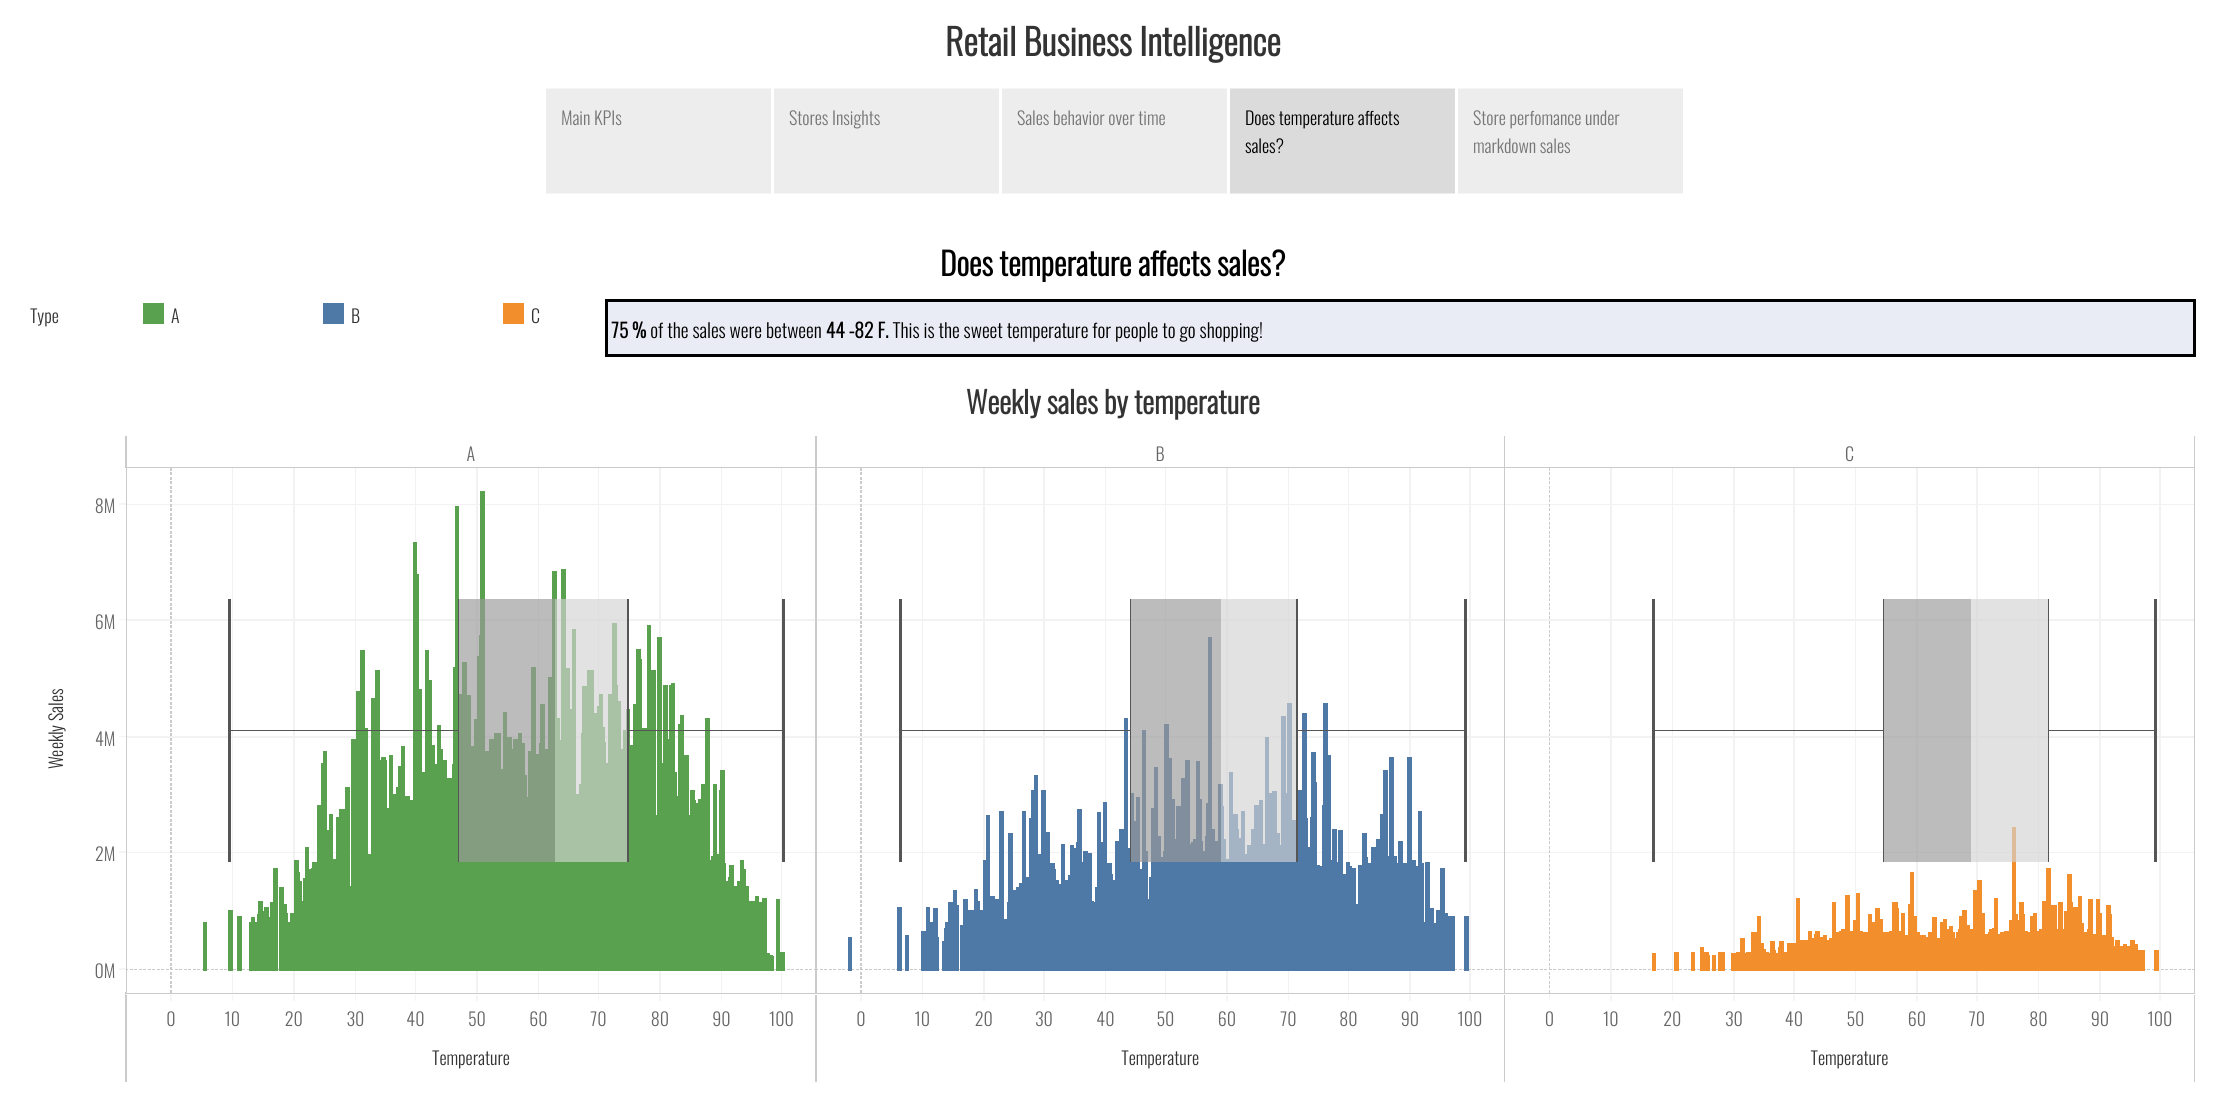

This screenshot's page, from the dashboard's own definition file:
{"tool":"tableau","page":{"name":"Dashboard 4","canvas":[1000,1000],"units":"permille","ordinal":3},"visuals":[{"type":"text","box":[5.4,10.8,989.2,71.1]},{"type":"legend","title":"Sales temperature distribution","param":"[federated.09c82i20zi96wa15g1bcy1swq6py].[none:type:nk]","box":[5.4,81.9,260.8,81.1]},{"type":"text","box":[266.2,81.9,728.4,81.1]},{"type":"worksheet","title":"Sales temperature distribution","mark":"Bar","rows":["weekly_sales"],"cols":["type","temperature"],"box":[5.4,163,989.2,826.2]}]}

Visuals, with their boxes on the dashboard's canvas, which has no fixed pixel size, in thousandths of its width and height (x1, y1, x2, y2). These are canvas units, not pixel positions in the 2225x1112 screenshot, which may show the page scaled, cropped or inside an application window:
text: (5, 11, 995, 82)
"Sales temperature distribution" legend: (5, 82, 266, 163)
text: (266, 82, 995, 163)
"Sales temperature distribution" worksheet (Bar marks): (5, 163, 995, 989)
